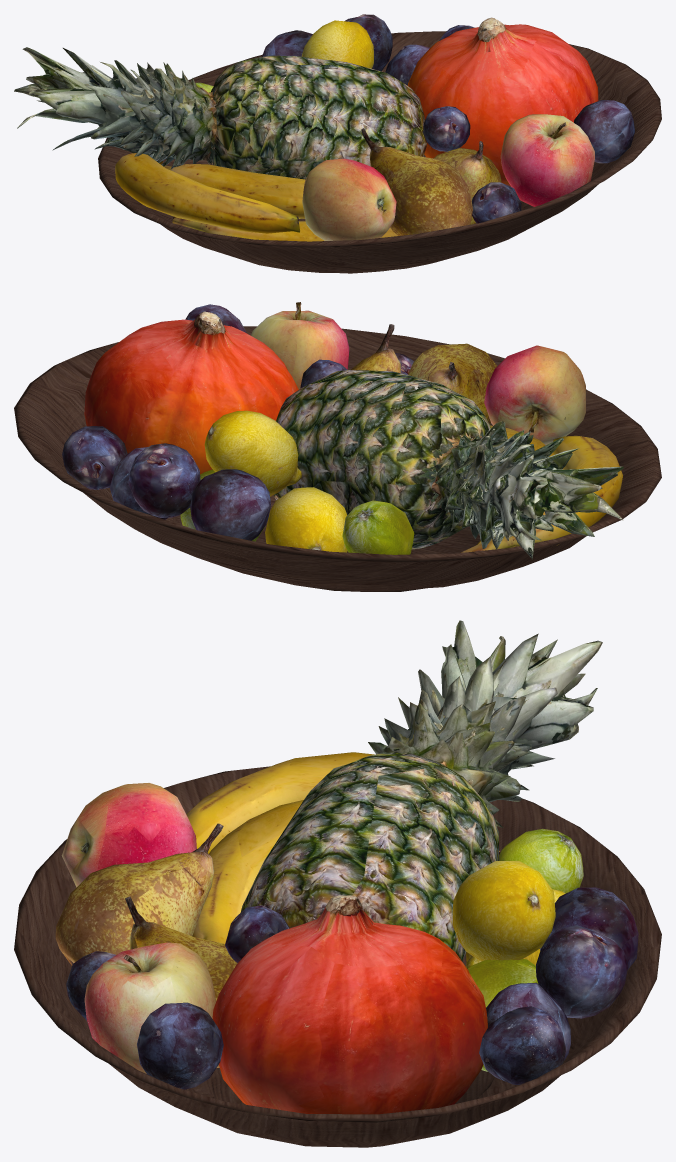
The model's file is FruitBowl.fbx.
3 views of the same model, one above another, from view 1: azimuth 30°, elevation 25°; view 2: azimuth 150°, elevation 25°; view 3: azimuth 270°, elevation 25° (orthographic). The views are drawn at different scales.
Visible parts, largest first — view 1: Fruit_Bowl; view 2: Fruit_Bowl; view 3: Fruit_Bowl.
Boxes of the visible parts, bbox=[...] form: Fruit_Bowl: bbox=[14, 14, 661, 273]; Fruit_Bowl: bbox=[14, 302, 661, 591]; Fruit_Bowl: bbox=[14, 620, 661, 1147].
Bounding box in the file's own units: 42.82 × 12.93 × 30.04.
